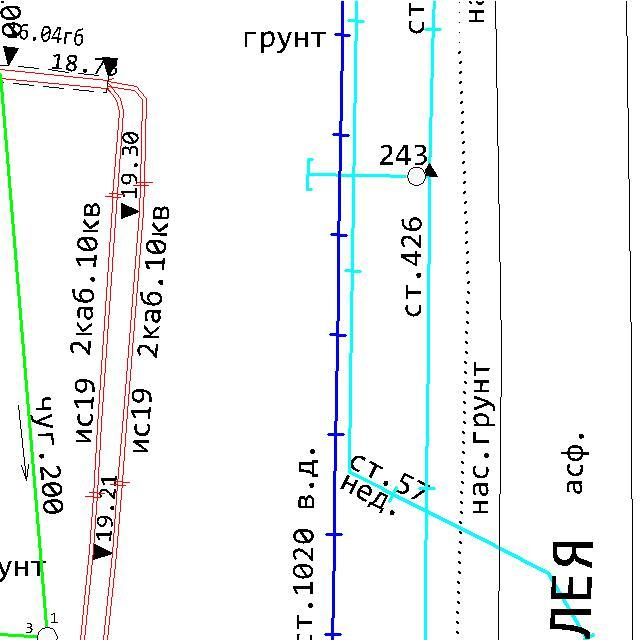asphalt: (560, 432, 590, 496)
mark: (1, 44, 22, 66), (90, 542, 114, 561), (119, 202, 141, 222), (101, 55, 120, 77)
well: (405, 164, 428, 188)
